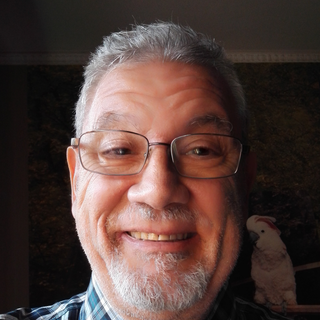eye: (94, 141, 139, 163), (177, 141, 222, 163)
